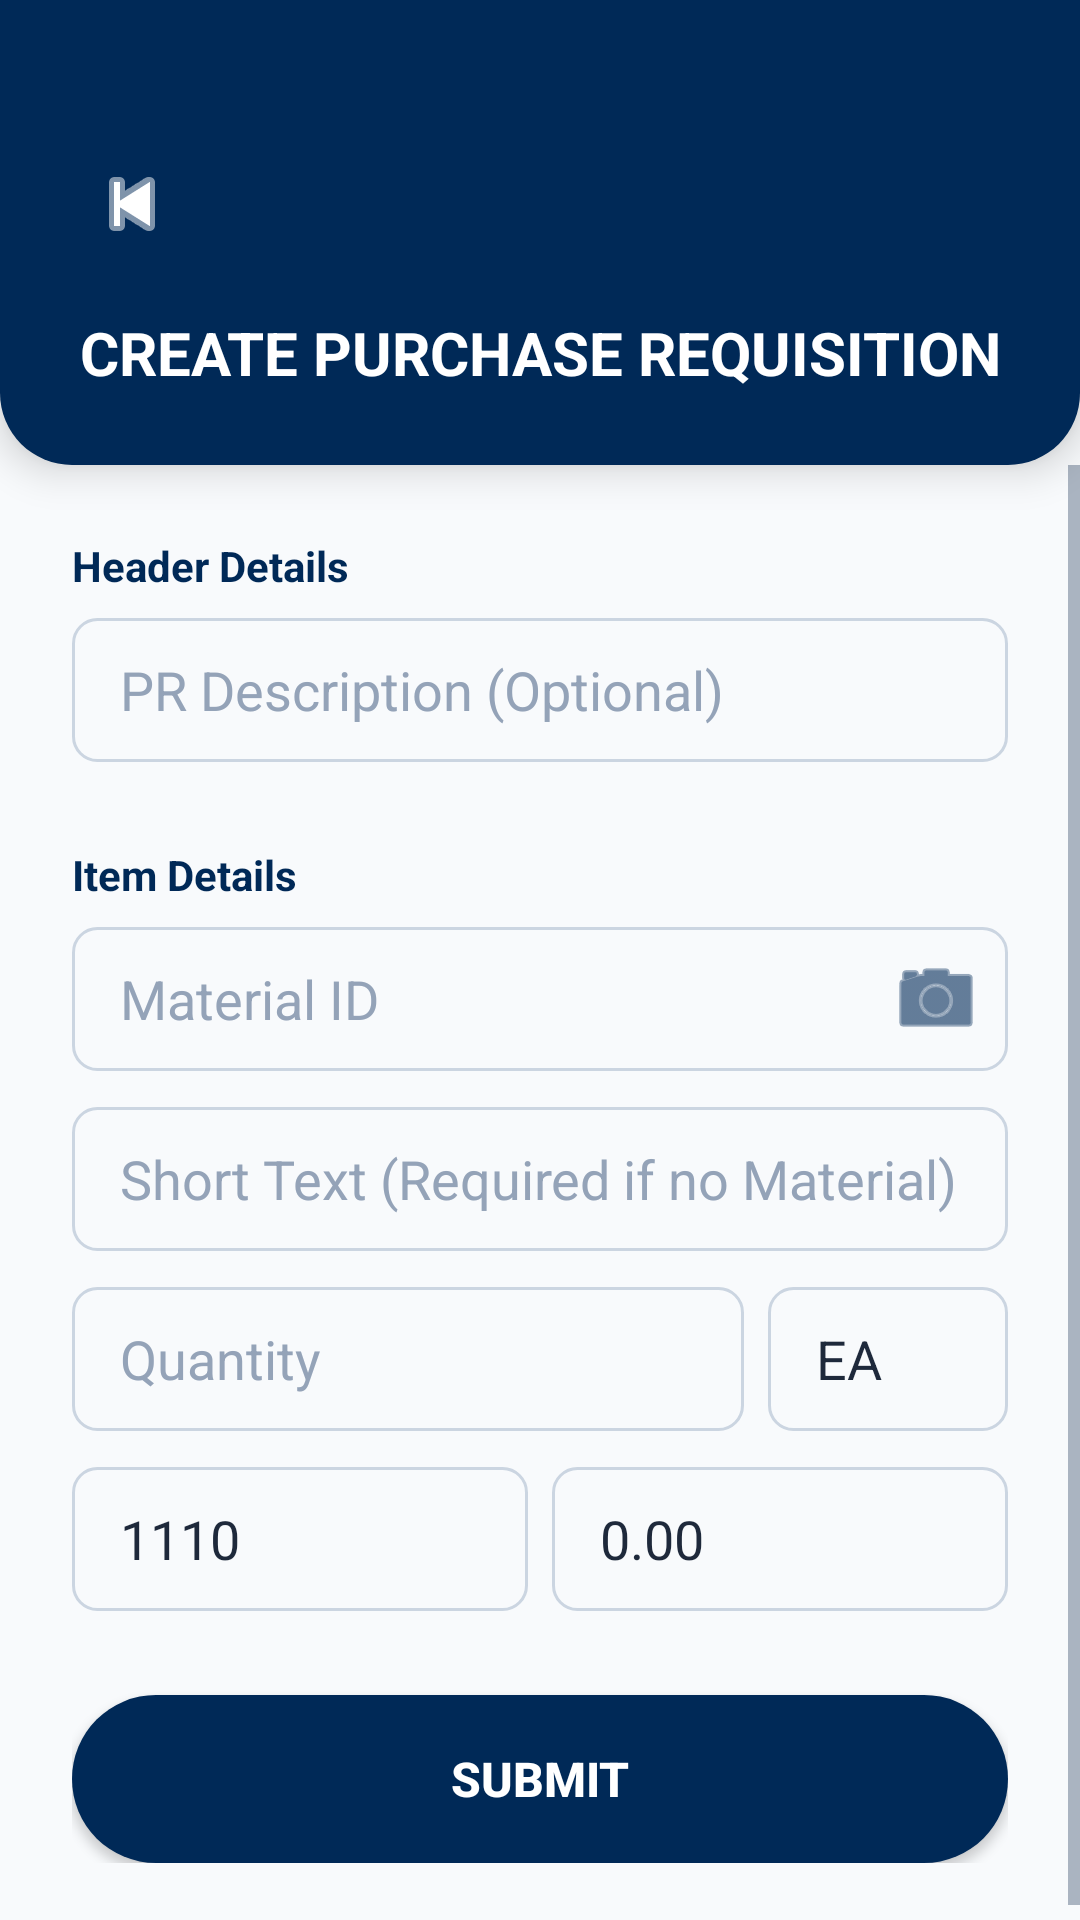

Where to tap for icons on this 1080w x 1920h app screen, as (x=x, y=y):
camera: (x=936, y=997)
previous: (x=132, y=204)
